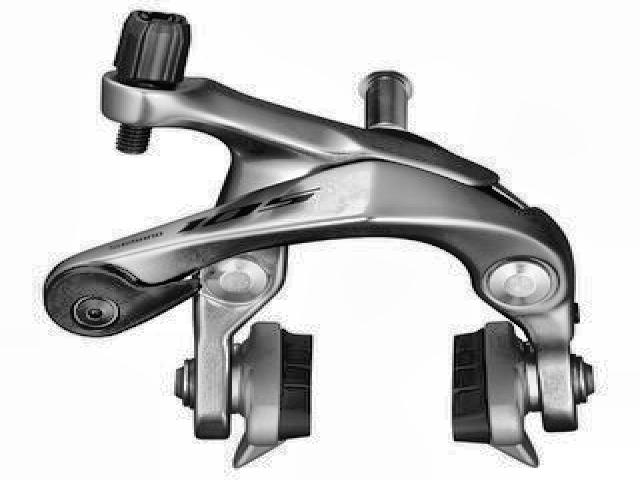rim_brake: (40, 9, 596, 468)
